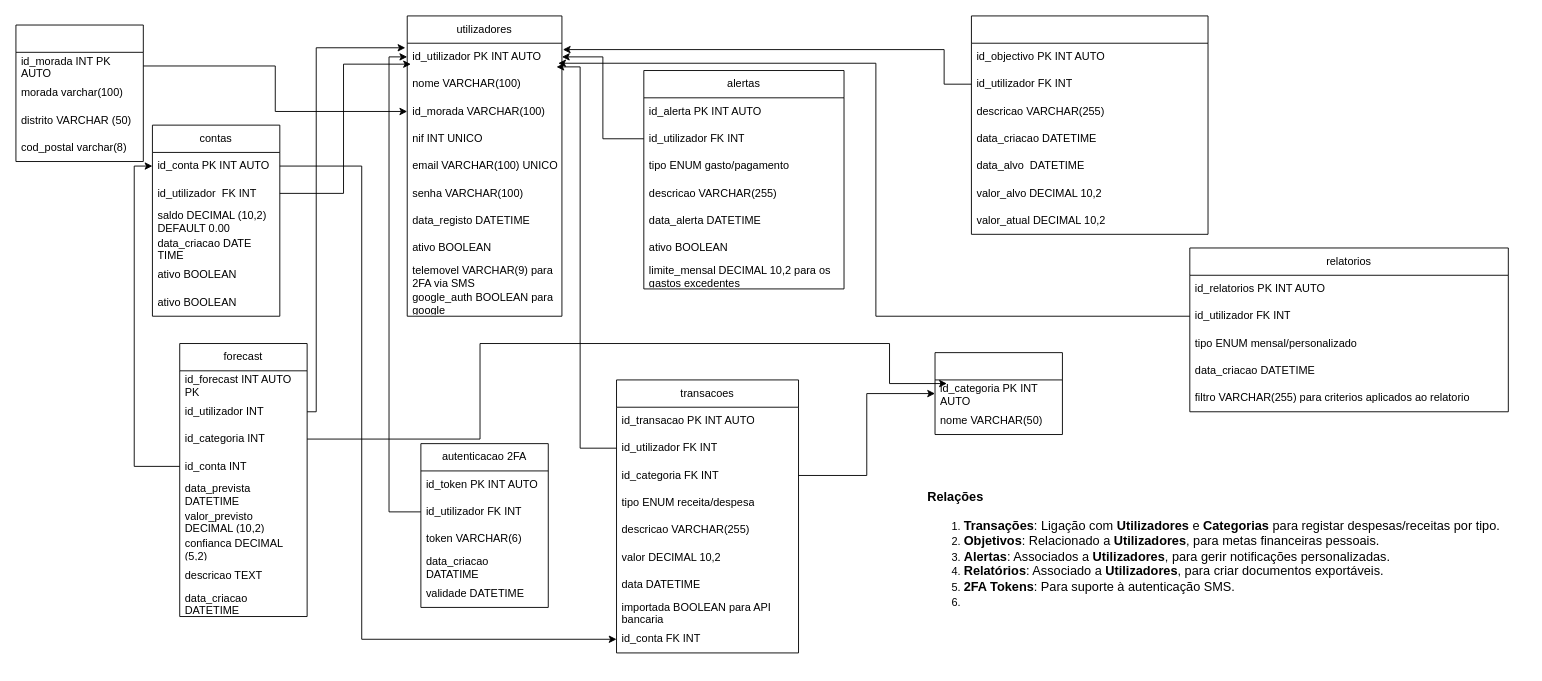
This 1542x681 diagram has some shape labels left out. Each missing label, with the box of its shape:
categorias: (934, 352, 1062, 435)
moradas: (15, 24, 143, 162)
objectivos: (971, 15, 1208, 234)
